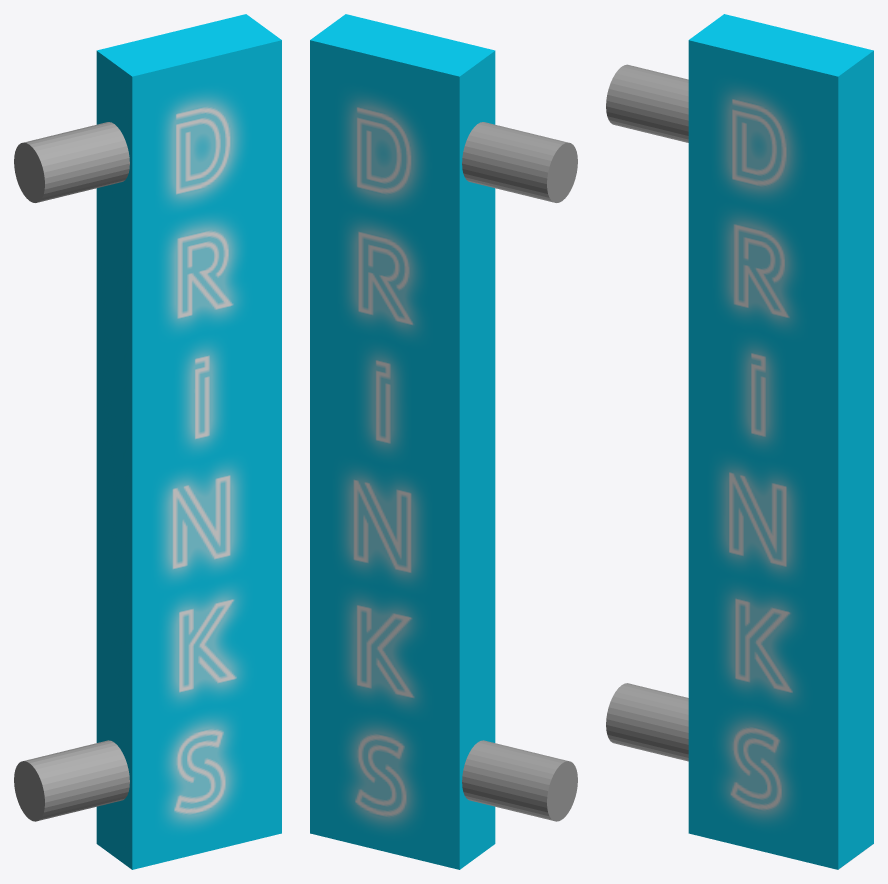
File: TallSign.fbx
3 renders of one model, left to right at view 1: azimuth 30°, elevation 25°; view 2: azimuth 150°, elevation 25°; view 3: azimuth 330°, elevation 25°, orthographic.
Parts seen in each view (by area): view 1: Cylinder.001; view 2: Cylinder.001; view 3: Cylinder.001.
Boxes of the visible parts, bbox=[...] form: Cylinder.001: bbox=[14, 14, 281, 869]; Cylinder.001: bbox=[310, 14, 577, 869]; Cylinder.001: bbox=[606, 14, 873, 869].
Size of the model in its own units: 394 by 1274 by 104.
